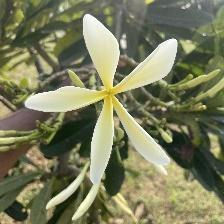champaka: (22, 14, 197, 184)
